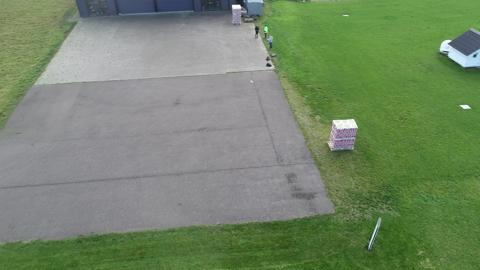RockwoolPallet: (232, 4, 242, 25)
